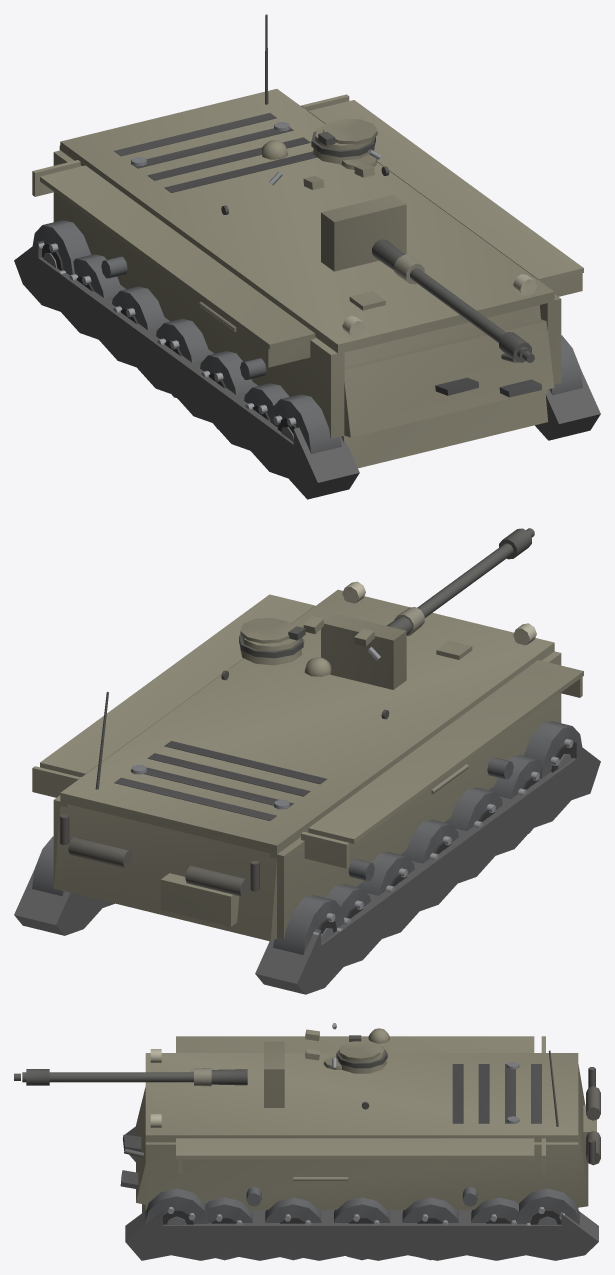
Rendered from cromwell.glb.
3 renders of one model, top to bottom at view 1: azimuth 30°, elevation 25°; view 2: azimuth 150°, elevation 25°; view 3: azimuth 270°, elevation 25°, orthographic. The views are drawn at different scales.
Parts seen in each view (by area): view 1: hullTop, hullSide, tracks, lowerPlate, glacis, mantlet, turretRoof, barrel, wheel5, wheel6, wheel2, wheel1 (+4 smaller); view 2: hullTop, hullSide, tracks, hullRear, mantlet, turretRoof, barrel, wheel6, wheel5, wheel2, wheel3, wheel1 (+3 smaller); view 3: hullTop, hullSide, tracks, barrel, hullRear, turretRoof, wheel13, wheel12, mantlet, wheel10, wheel9, wheel8 (+4 smaller).
Part boxes in pixels (x1=…): hullTop: x1=60, y1=89, x2=554, y2=353; hullSide: x1=32, y1=94, x2=583, y2=438; tracks: x1=14, y1=240, x2=600, y2=499; lowerPlate: x1=344, y1=319, x2=554, y2=437; glacis: x1=341, y1=291, x2=547, y2=468; mantlet: x1=321, y1=195, x2=406, y2=271; turretRoof: x1=261, y1=119, x2=380, y2=189; barrel: x1=372, y1=239, x2=534, y2=362; wheel5: x1=270, y1=394, x2=341, y2=453; wheel6: x1=32, y1=220, x2=91, y2=275; wheel2: x1=156, y1=318, x2=214, y2=397; wheel1: x1=112, y1=286, x2=170, y2=330; hullTop: x1=60, y1=589, x2=554, y2=854; hullSide: x1=32, y1=581, x2=583, y2=939; tracks: x1=14, y1=742, x2=600, y2=994; hullRear: x1=54, y1=691, x2=278, y2=941; mantlet: x1=321, y1=613, x2=406, y2=689; turretRoof: x1=239, y1=616, x2=380, y2=676; barrel: x1=387, y1=528, x2=534, y2=635; wheel6: x1=273, y1=895, x2=344, y2=954; wheel5: x1=523, y1=721, x2=582, y2=778; wheel2: x1=400, y1=819, x2=458, y2=863; wheel3: x1=444, y1=787, x2=502, y2=831; wheel1: x1=357, y1=852, x2=414, y2=895; hullTop: x1=145, y1=1053, x2=578, y2=1142; hullSide: x1=145, y1=1036, x2=578, y2=1209; tracks: x1=125, y1=1126, x2=598, y2=1260; barrel: x1=14, y1=1068, x2=247, y2=1086; hullRear: x1=548, y1=1050, x2=600, y2=1207; turretRoof: x1=305, y1=1023, x2=389, y2=1073; wheel13: x1=516, y1=1188, x2=579, y2=1225; wheel12: x1=144, y1=1188, x2=208, y2=1224; mantlet: x1=264, y1=1041, x2=284, y2=1107; wheel10: x1=265, y1=1197, x2=321, y2=1260; wheel9: x1=334, y1=1197, x2=390, y2=1260; wheel8: x1=402, y1=1197, x2=458, y2=1260.
Size of the model in its own units: 4.12 by 3.04 by 8.55.
